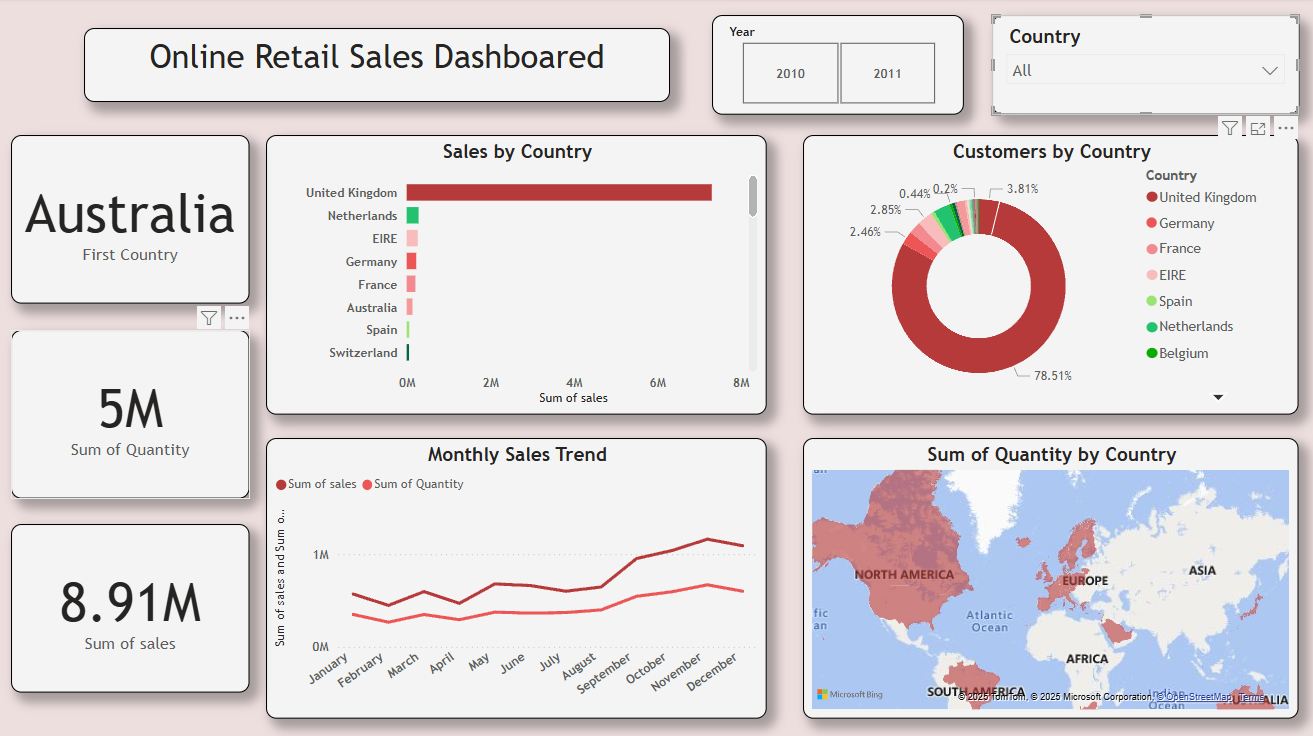

Layout of this report page (visuals, bound fields, positions):
{"tool":"powerbi","page":{"name":"Page 1","canvas":[1280,720],"ordinal":0},"visuals":[{"type":"lineChart","title":"Monthly Sales Trend","fields":{"Category":["Cleaned_Online_Retail.Invoice_date.Variation.Date Hierarchy.Month"],"Y":["Sum(Cleaned_Online_Retail.sales)","Sum(Cleaned_Online_Retail.Quantity)"]},"box":[258.7,428,487.3,273.3],"z":0},{"type":"barChart","title":"Sales by Country","fields":{"Category":["Cleaned_Online_Retail.Country"],"Y":["Sum(Cleaned_Online_Retail.sales)"],"Series":["Cleaned_Online_Retail.Country"]},"box":[258.7,133.3,487.3,272.3],"z":1000},{"type":"donutChart","title":"Customers by Country","fields":{"Y":["CountNonNull(Cleaned_Online_Retail.Customer_ID)","Sum(Cleaned_Online_Retail.sales)"],"Category":["Cleaned_Online_Retail.Country"]},"box":[781,133.3,482.4,272.3],"z":2000},{"type":"slicer","fields":{"Values":["Cleaned_Online_Retail.Country"]},"box":[964.9,16.5,298.6,97.3],"z":3000},{"type":"filledMap","title":"sales  by Country","fields":{"Category":["Cleaned_Online_Retail.Country"]},"box":[781,428,482.4,273.3],"z":4000},{"type":"slicer","fields":{"Values":["Cleaned_Online_Retail.Invoice_date.Variation.Date Hierarchy.Year"]},"box":[692.5,16.5,245.1,97.3],"z":5000},{"type":"textbox","box":[81.7,29.2,570,72],"z":6000},{"type":"card","fields":{"Values":["Min(Cleaned_Online_Retail.Country)"]},"box":[10.7,133.3,232.5,164.4],"z":7000},{"type":"card","fields":{"Values":["Sum(Cleaned_Online_Retail.Quantity)"]},"box":[10.7,322.9,232.5,164.4],"z":8000},{"type":"card","fields":{"Values":["Sum(Cleaned_Online_Retail.sales)"]},"box":[10.7,511.6,232.5,164.4],"z":9000}]}

Visuals, with their boxes in screenshot pixels (x1, y1, x2, y2), scaled from the page's 1280x720 canvas onto the 1313x736 screenshot:
"Monthly Sales Trend" lineChart: pyautogui.locateOnScreen(265, 438, 765, 717)
"Sales by Country" barChart: pyautogui.locateOnScreen(265, 136, 765, 415)
"Customers by Country" donutChart: pyautogui.locateOnScreen(801, 136, 1296, 415)
slicer - Cleaned_Online_Retail.Country: pyautogui.locateOnScreen(990, 17, 1296, 116)
"sales  by Country" filledMap: pyautogui.locateOnScreen(801, 438, 1296, 717)
slicer - Cleaned_Online_Retail.Invoice_date.Variation.Date Hierarchy.Year: pyautogui.locateOnScreen(710, 17, 962, 116)
textbox: pyautogui.locateOnScreen(84, 30, 669, 103)
card - Min(Cleaned_Online_Retail.Country): pyautogui.locateOnScreen(11, 136, 249, 304)
card - Sum(Cleaned_Online_Retail.Quantity): pyautogui.locateOnScreen(11, 330, 249, 498)
card - Sum(Cleaned_Online_Retail.sales): pyautogui.locateOnScreen(11, 523, 249, 691)
